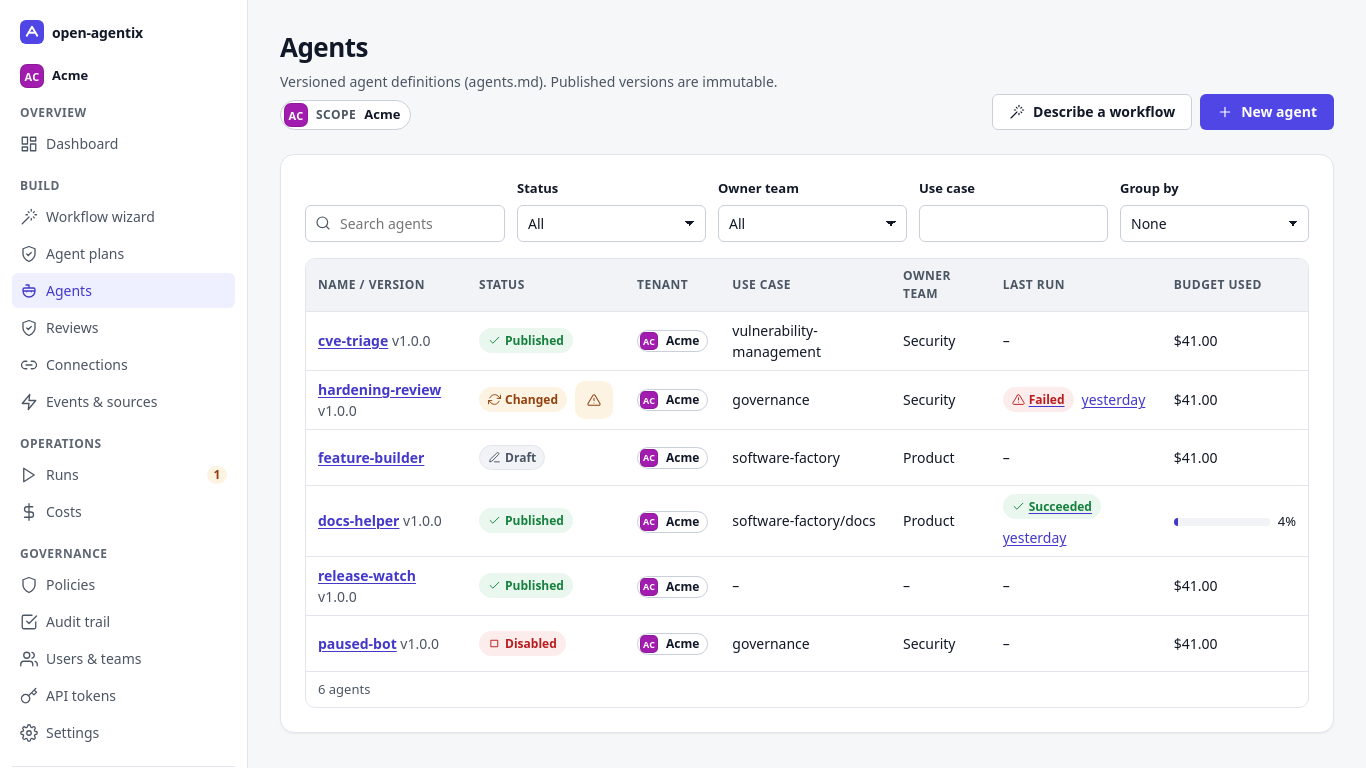
it: agents list v2: filters and URL state › shows a disabled agent with its own badge and offers "Disabled" as a status filter
Expected: the text "Disabled" is shown, [479,631,566,656]
Select "Disabled" in the dropdown labelled "Status" at (612, 223), box [517,205,706,242]
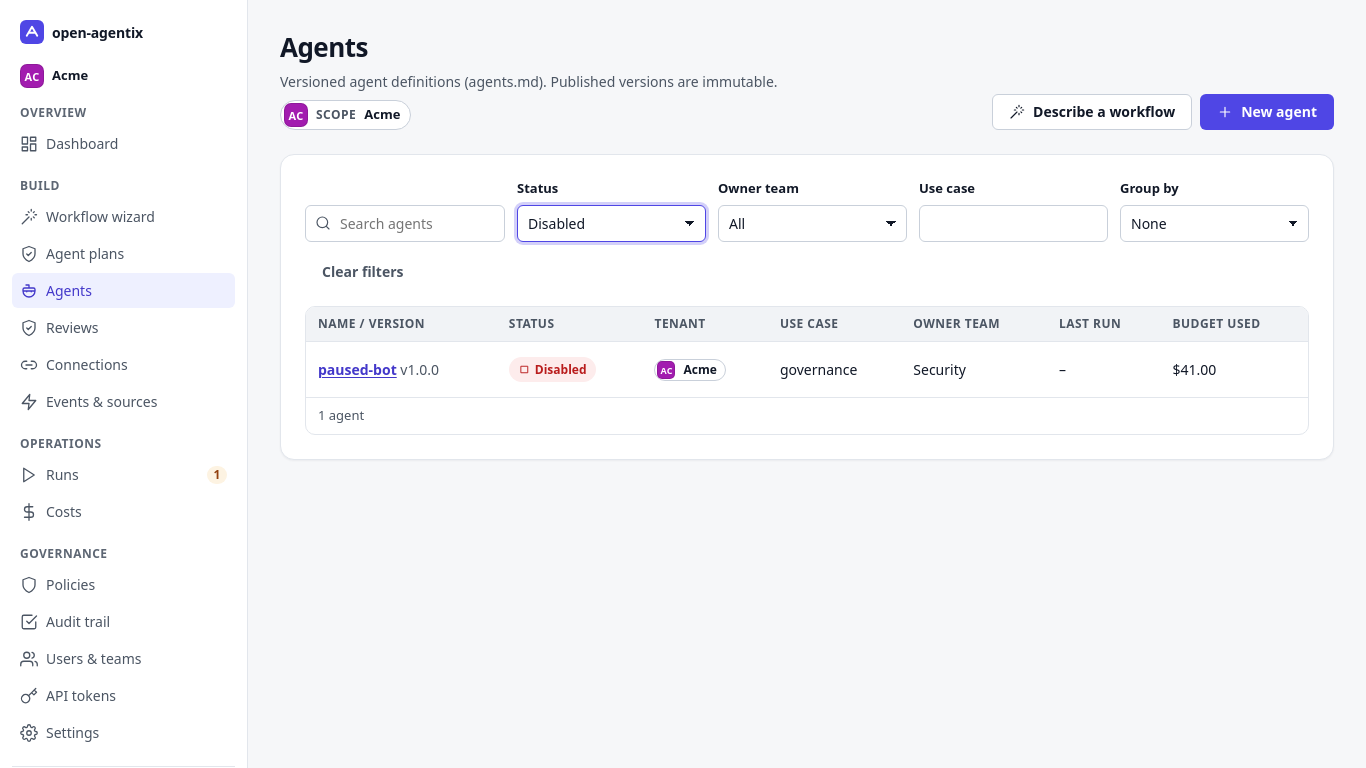
Expected: the link "paused-bot" is shown, [318,360,397,379]
Expected: the link "cve-triage" is gone
